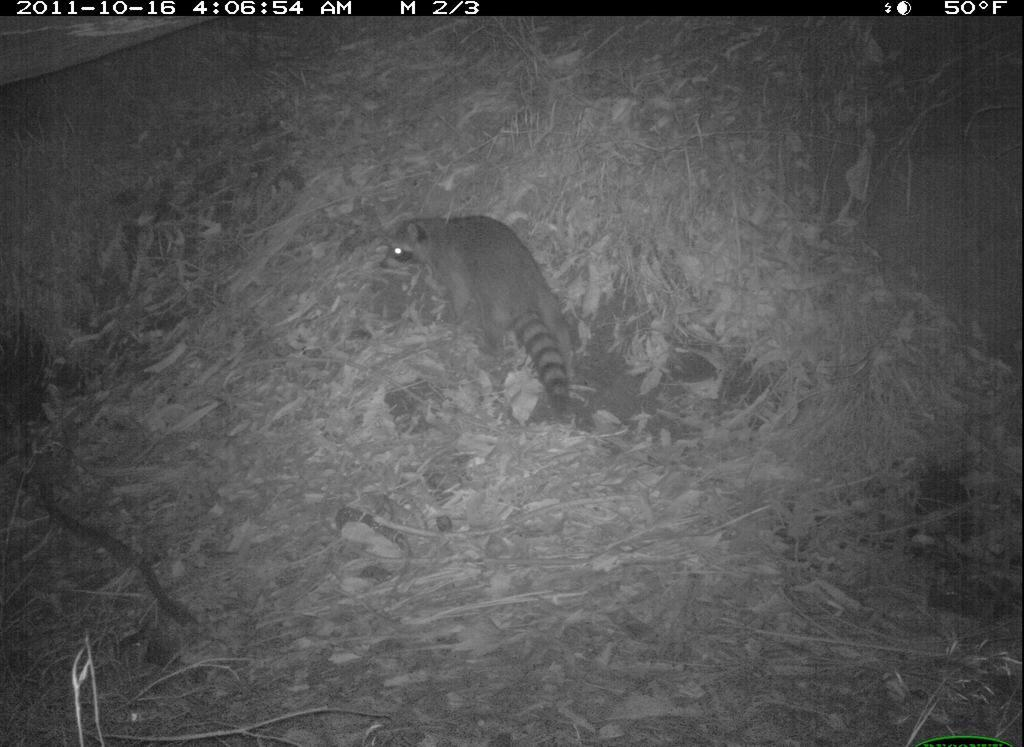raccoon: (386, 207, 591, 417)
